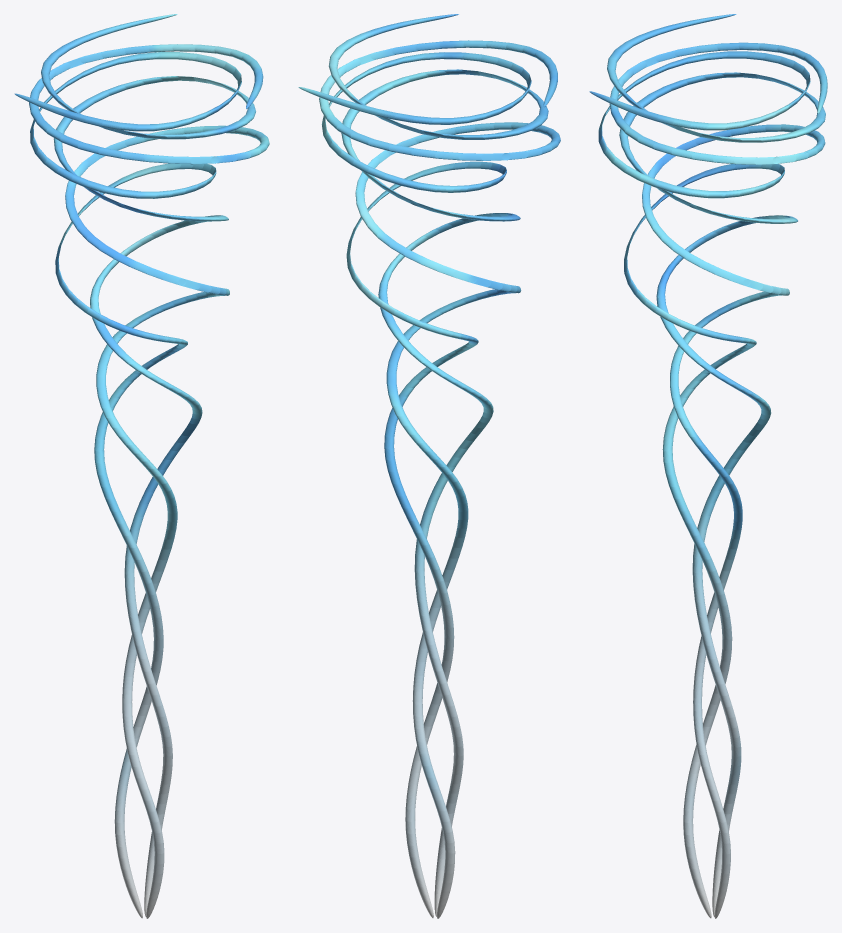
File: WindBig.fbx
3 renders of one model, left to right at view 1: azimuth 30°, elevation 25°; view 2: azimuth 150°, elevation 25°; view 3: azimuth 270°, elevation 25°, orthographic.
Parts seen in each view (by area): view 1: Cube.006; view 2: Cube.006; view 3: Cube.006.
Part boxes in pixels (<box>): Cube.006: <box>14,14,269,918</box>; Cube.006: <box>298,14,560,918</box>; Cube.006: <box>589,14,827,918</box>.
Size of the model in its own units: 297 by 1084 by 277.
Materials: 1 (1 with a texture image).
